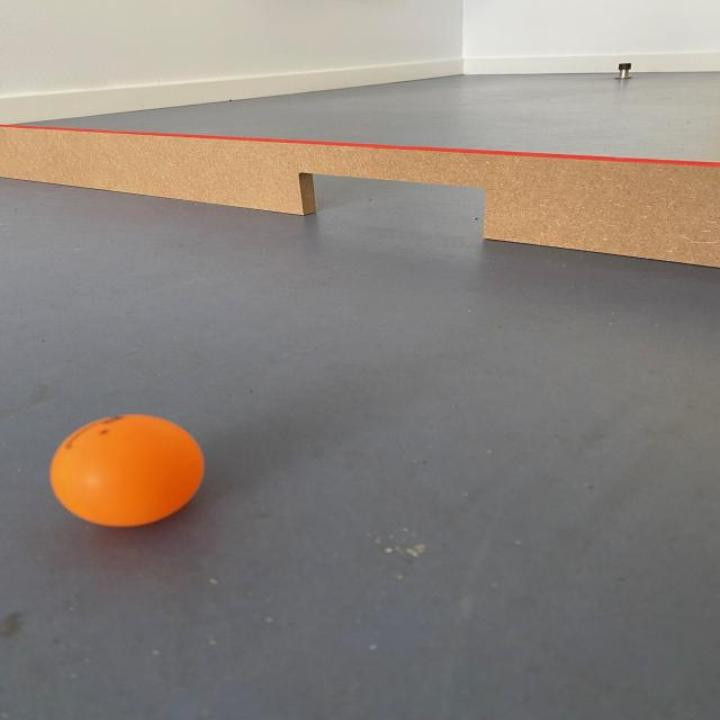orange: (47, 413, 204, 525)
